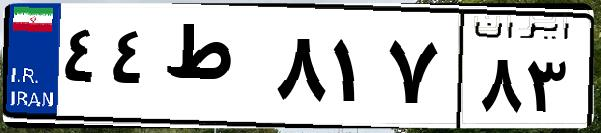1: (330, 28, 385, 110)
3: (525, 38, 570, 115)
4: (57, 26, 110, 100), (110, 28, 158, 98)
7: (385, 28, 445, 110)
8: (270, 28, 330, 110), (475, 38, 525, 113)
ط: (158, 20, 270, 120)
